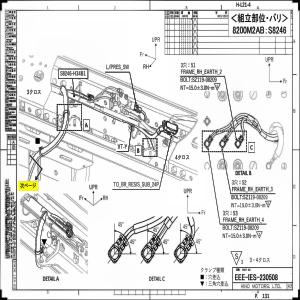PartNumber: (60, 70, 86, 76), (243, 194, 269, 200), (234, 225, 259, 231), (192, 77, 218, 82)
